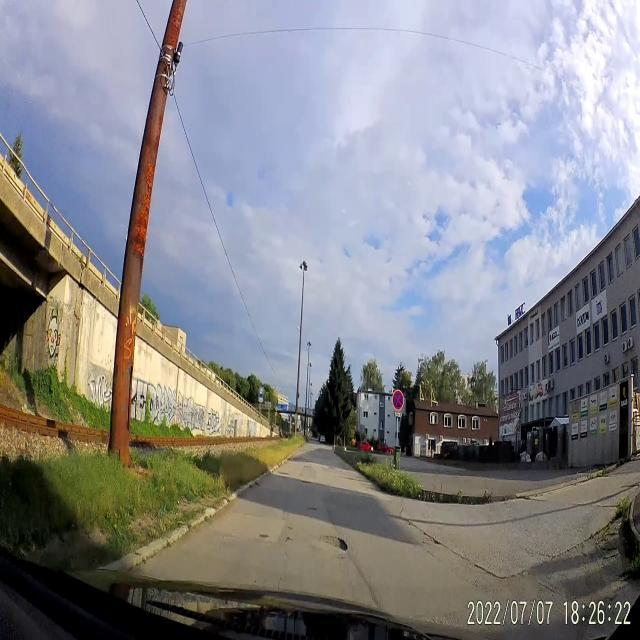Pothole: (316, 527, 349, 556), (306, 504, 318, 514), (300, 478, 312, 486)
